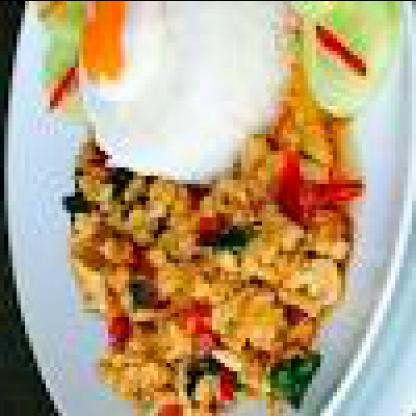Basil Rice: (29, 1, 412, 412)
